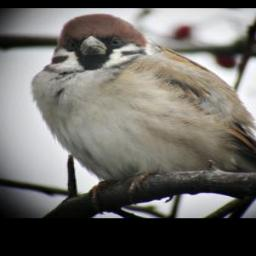Sparrow: (32, 13, 256, 214)
